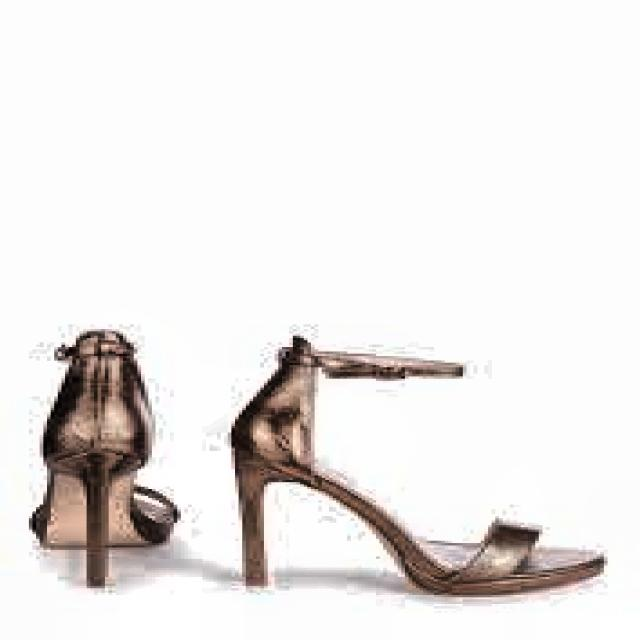shoes: (17, 312, 617, 614)
